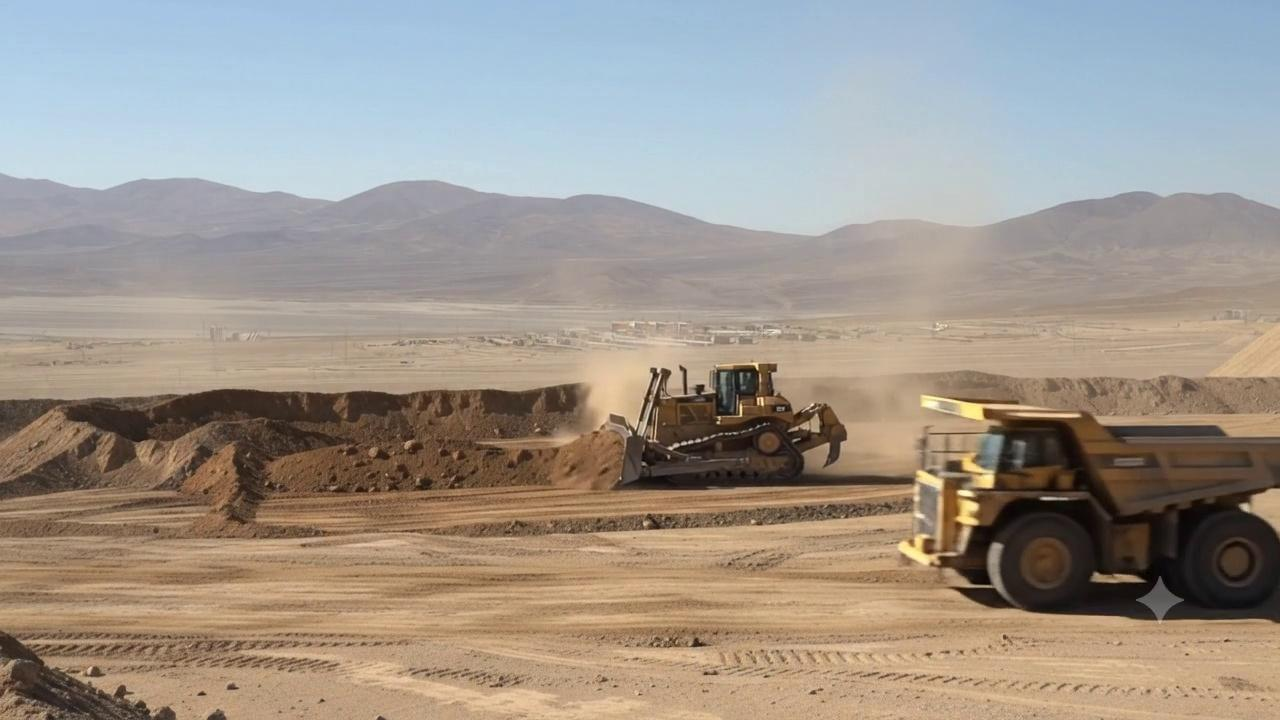CAEX: (898, 399, 1280, 614), (609, 362, 847, 487)
